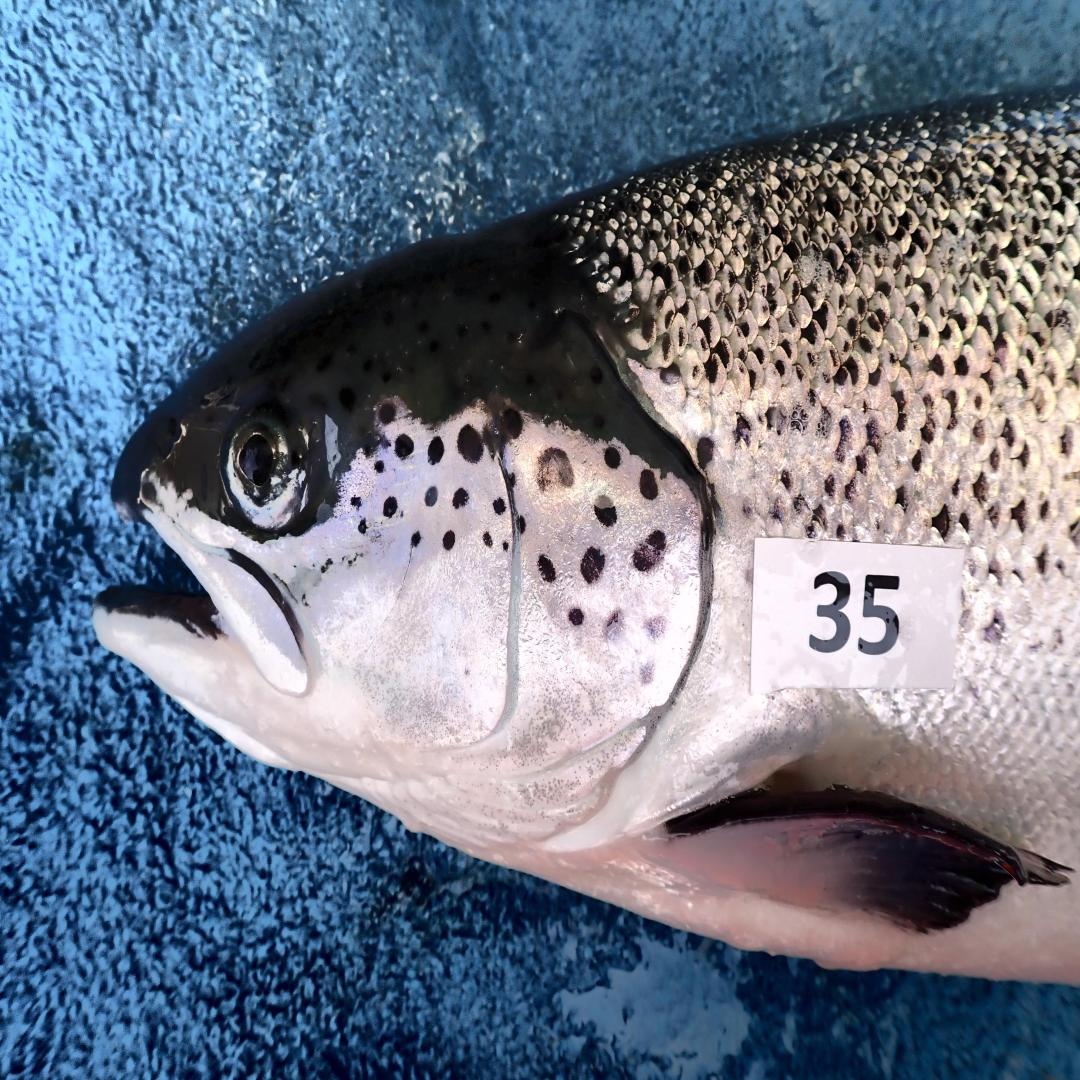spot: (538, 447, 574, 492), (633, 529, 667, 571), (458, 425, 485, 464), (580, 548, 605, 582), (593, 495, 618, 526), (500, 453, 517, 495), (500, 408, 523, 439), (482, 423, 501, 458), (603, 608, 624, 639), (645, 613, 667, 641), (639, 470, 658, 501), (635, 658, 656, 686), (538, 554, 557, 582), (377, 400, 397, 425), (428, 436, 445, 464), (394, 433, 413, 458), (603, 444, 620, 470), (384, 495, 399, 518), (567, 608, 584, 627), (454, 487, 468, 509), (443, 529, 456, 551), (424, 487, 439, 506), (515, 515, 527, 534), (494, 498, 506, 515), (483, 532, 494, 548), (411, 532, 422, 548), (350, 495, 361, 509), (374, 460, 384, 473), (359, 518, 367, 534), (502, 540, 510, 551)
